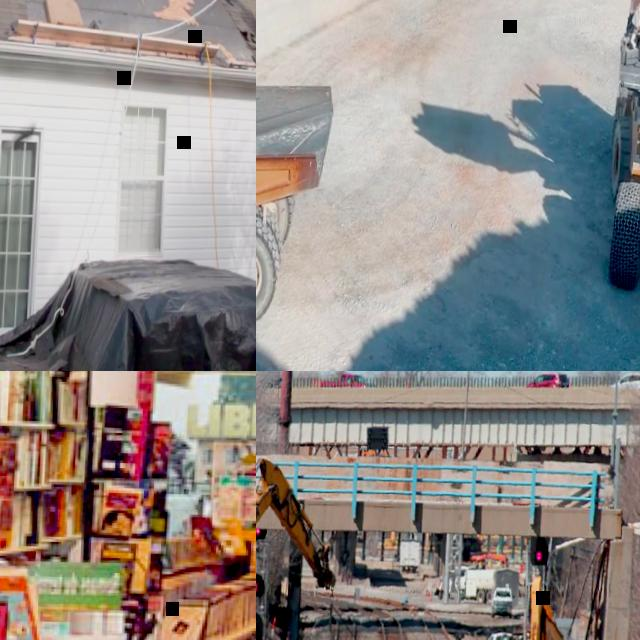Hardhat: (519, 635, 524, 640)
Person: (517, 635, 525, 640)
Safety Cone: (429, 587, 434, 603), (427, 577, 431, 595), (424, 585, 428, 597)
vehicle: (256, 48, 347, 338), (256, 451, 340, 640), (599, 0, 640, 322), (508, 574, 622, 640), (449, 565, 520, 607), (312, 372, 374, 391), (525, 372, 571, 390), (397, 541, 420, 574), (491, 588, 516, 618), (609, 371, 640, 389), (478, 630, 523, 640)
